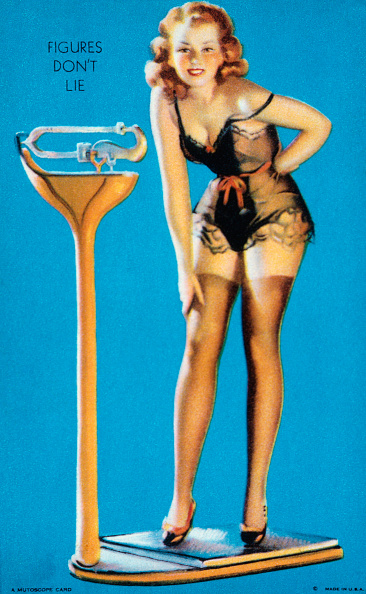em pe: (148, 0, 328, 543)
